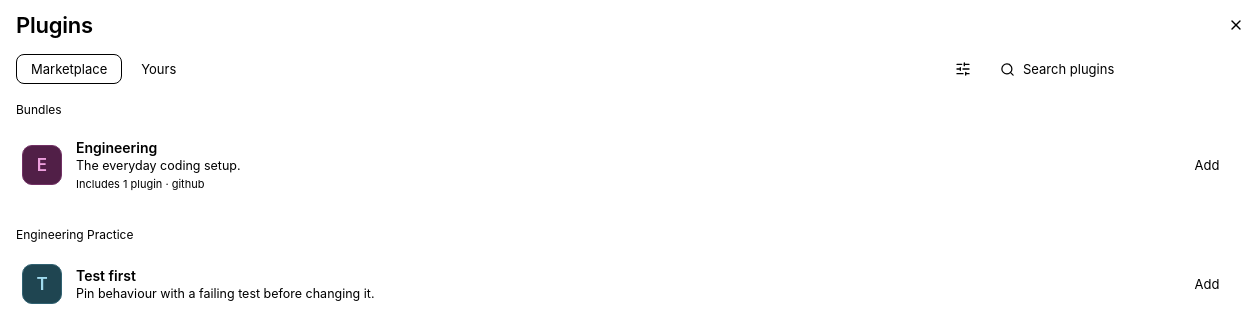
Test case: Given a daemon with a catalog › When the search box is used, Then only matching entries remain
The width and height of the screenshot is (1258, 321).
expect the text "Test first" is shown: met, box [76,267,136,284]
Type "everyday" into the field labelled "Search plugins".
click(1130, 69); type("everyday")  # box [1023,61,1236,77]
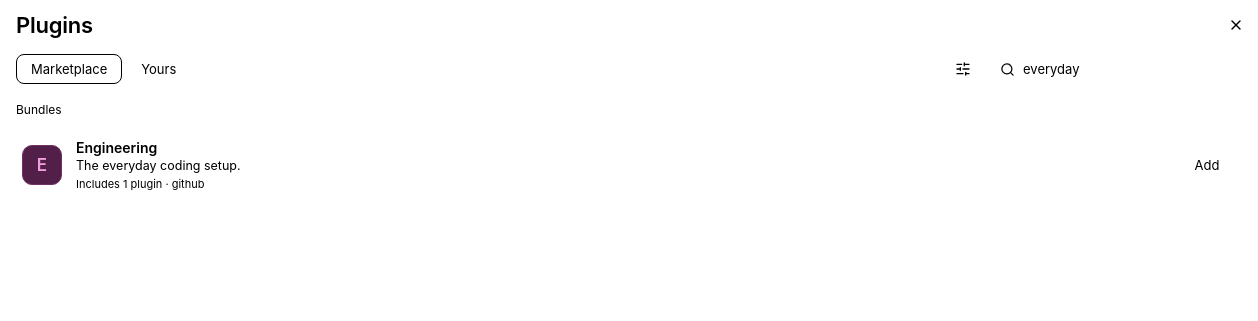
expect the text "Engineering" is shown: met, box [76,139,157,156]
expect the text "Test first" is gone: met
